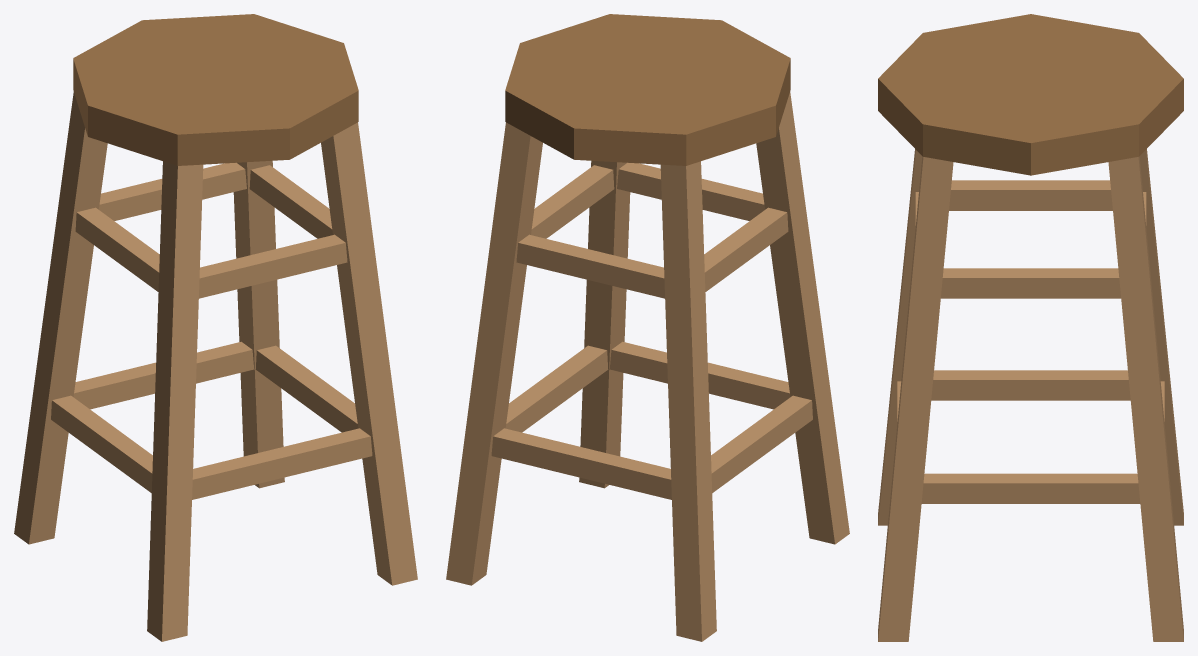
The model's file is Stool2.fbx.
3 renders of one model, left to right at view 1: azimuth 30°, elevation 25°; view 2: azimuth 150°, elevation 25°; view 3: azimuth 270°, elevation 25°, orthographic. The views are drawn at different scales.
Parts seen in each view (by area): view 1: Cylinder; view 2: Cylinder; view 3: Cylinder.
Part boxes in pixels (box(x1,y1,x2,y2)): Cylinder: box(14, 14, 417, 641); Cylinder: box(446, 14, 849, 641); Cylinder: box(878, 14, 1183, 641).
Bounding box in the file's own units: 0.7 × 1.26 × 0.7.
